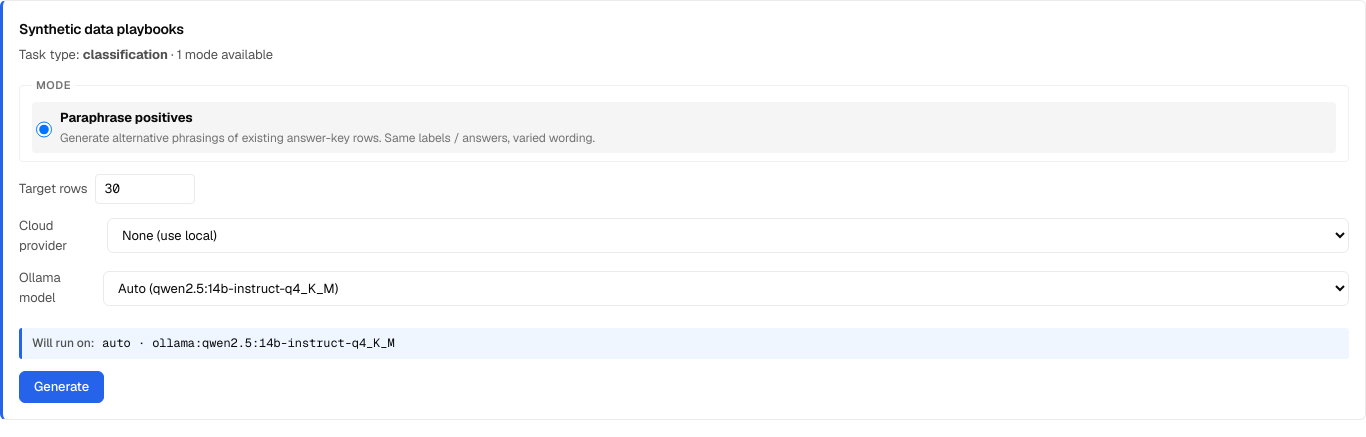
Test case: PlaybookPickerPanel › shows an active-backend indicator that resolves cloud > ollama > auto
The width and height of the screenshot is (1366, 437).
Expected: the message "Will run on: auto · ollama:qwen2.5:14b-instruct-q4_K_M" is shown, [19, 328, 1349, 359]
Expected: the message with test id "playbook-picker-active-backend" reads "Will run on: auto · ollama:qwen2.5:14b-instruct-q4_K_M", [102, 335, 394, 351]
Note: Pick Ollama llama3 → indicator updates to ollama:llama3:latest.
Select "llama3:latest · 8.0B" in the dropdown with test id "playbook-picker-ollama-model" at (726, 288), box [103, 270, 1349, 306]
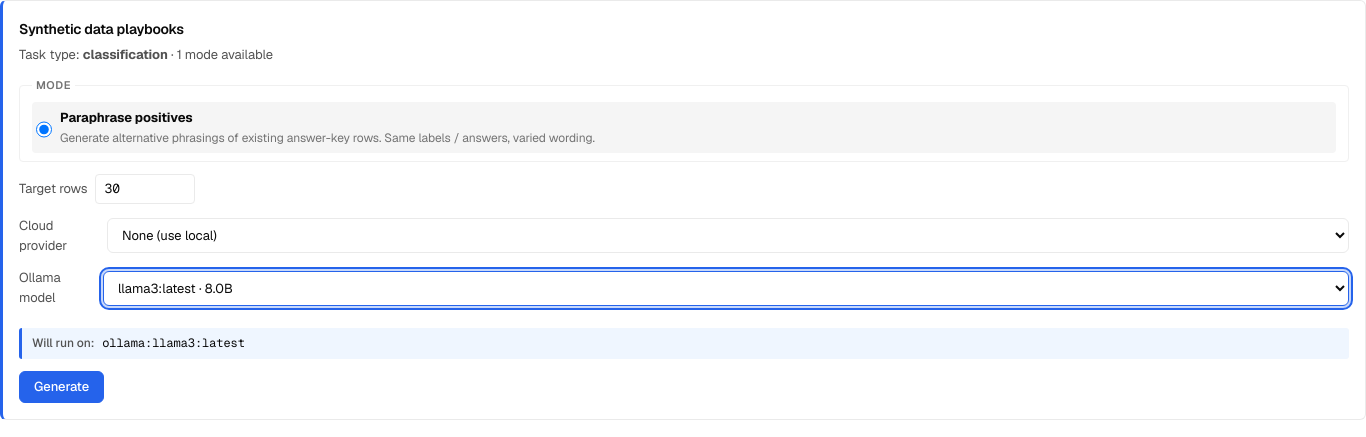
Expected: the message with test id "playbook-picker-active-backend" shows "ollama:llama3:latest", [102, 335, 245, 351]
Note: Pick OpenAI → ollama pin should clear AND indicator shows cloud.
Select "openai ✓ key saved" in the dropdown with test id "playbook-picker-cloud-provider" at (728, 236), box [107, 218, 1349, 253]
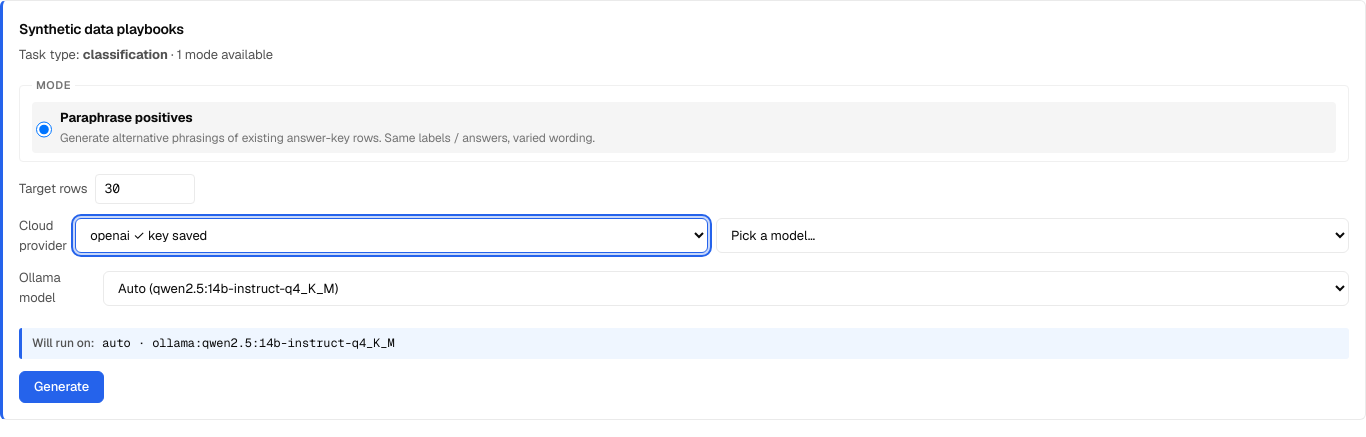
Select "GPT-4o mini" in the dropdown with test id "playbook-picker-cloud-model" at (1033, 236), box [716, 218, 1349, 253]
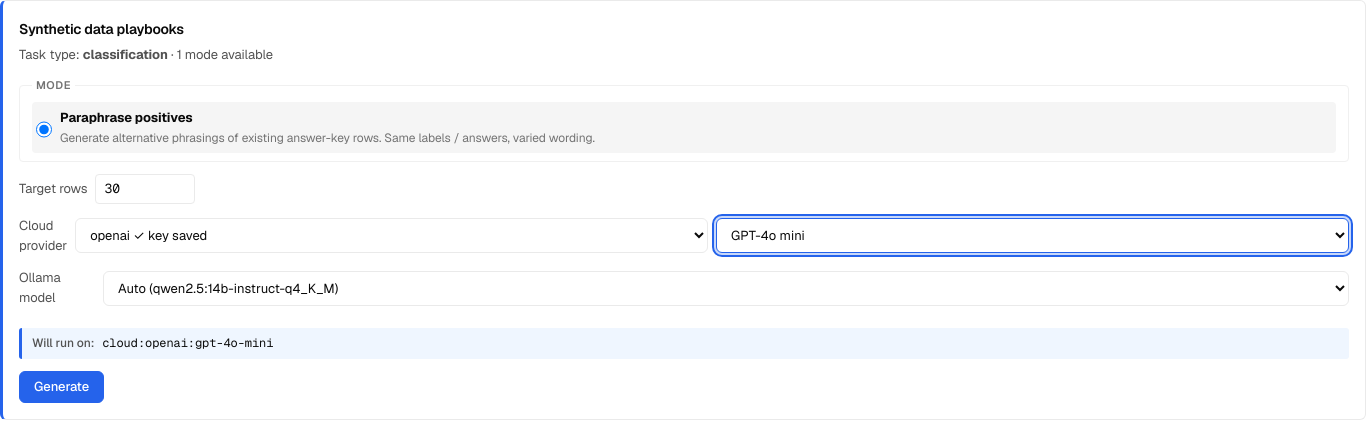
Expected: the message with test id "playbook-picker-active-backend" shows "cloud:openai:gpt-4o-mini", [102, 335, 273, 351]
Select "llama3:latest · 8.0B" in the dropdown with test id "playbook-picker-ollama-model" at (726, 288), box [103, 270, 1349, 306]
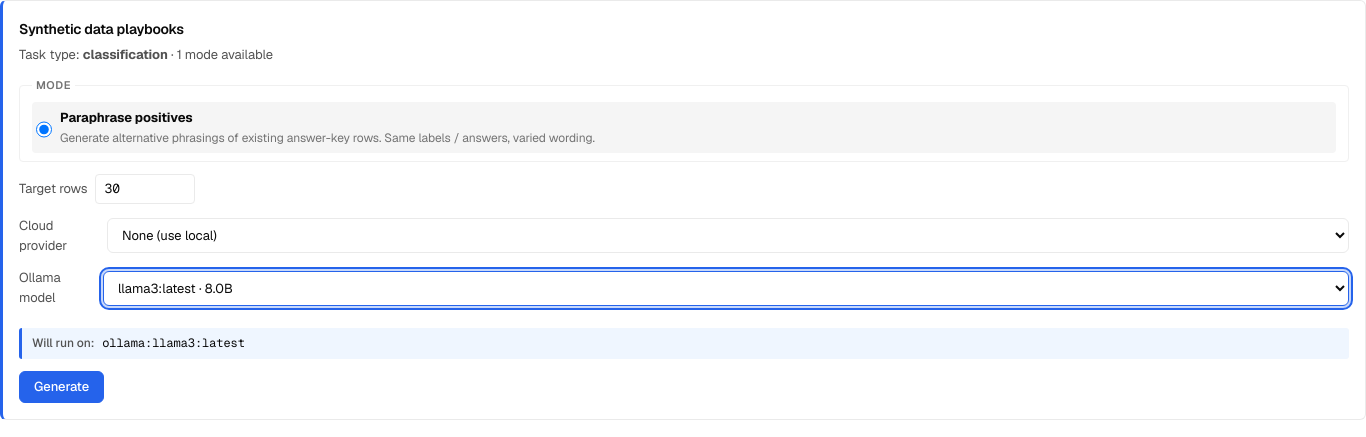
Expected: the message with test id "playbook-picker-active-backend" shows "ollama:llama3:latest", [102, 335, 245, 351]
